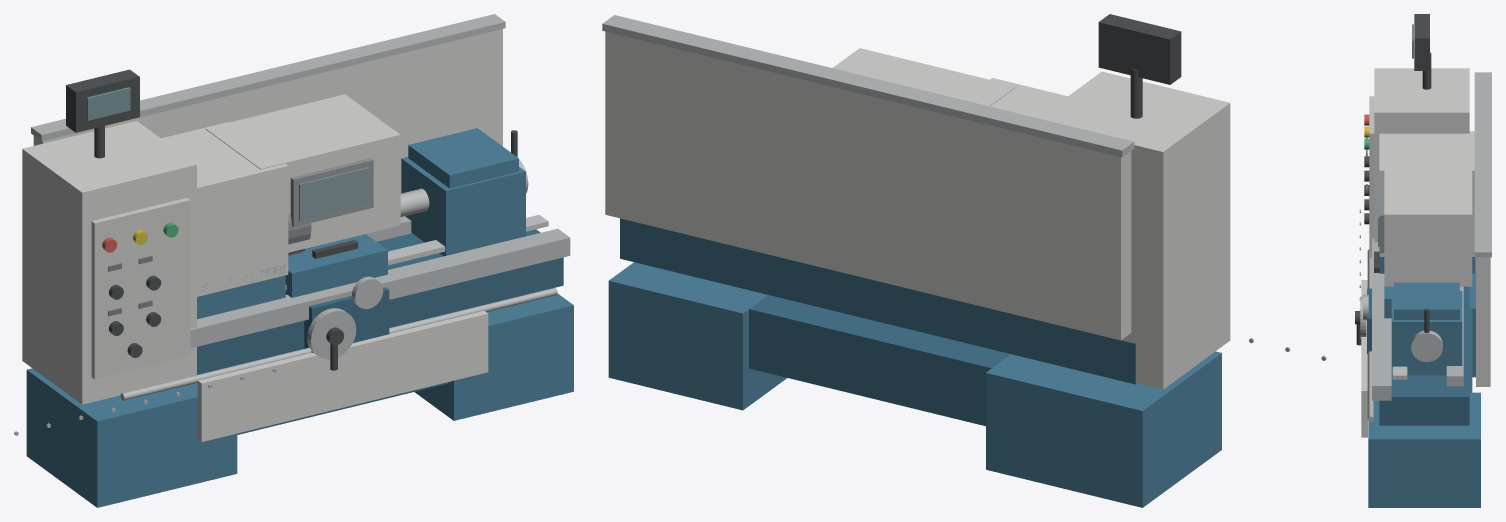
The model's file is romi_t240_modelo_3d_melhorado.glb.
3 renders of one model, left to right at view 1: azimuth 30°, elevation 25°; view 2: azimuth 150°, elevation 25°; view 3: azimuth 270°, elevation 25°, orthographic. The views are drawn at different scales.
Parts seen in each view (by area): view 1: control_cabinet, rear_splash_guard, base_left, front_white_access_door, control_face, safety_hood_body, headstock_white_shell, base_right, front_bed_rail, bed_main, tailstock_body, guard_top_edge (+13 smaller); view 2: rear_splash_guard, control_cabinet, base_left, bed_main, center_lower_panel, base_right, guard_top_edge, digital_readout_case, safety_hood_body, headstock_white_shell; view 3: safety_hood_body, base_right, control_cabinet, bed_main, guard_top_edge, headstock_white_shell, tailstock_body, tailstock_top, front_bed_rail, rear_splash_guard, control_face, digital_readout_case (+12 smaller).
Boxes of the visible parts, x1,y1,x2,y2 form: control_cabinet: (22, 121, 196, 404); rear_splash_guard: (33, 29, 502, 193); base_left: (26, 368, 237, 507); front_white_access_door: (197, 311, 488, 441); control_face: (91, 197, 190, 379); safety_hood_body: (205, 94, 400, 252); headstock_white_shell: (161, 122, 288, 296); base_right: (415, 293, 573, 420); front_bed_rail: (190, 228, 570, 348); bed_main: (197, 229, 563, 374); tailstock_body: (401, 157, 525, 256); guard_top_edge: (31, 14, 505, 140); rear_splash_guard: (605, 31, 1131, 340); control_cabinet: (1038, 71, 1230, 389); base_left: (986, 351, 1221, 507); bed_main: (620, 218, 1136, 384); center_lower_panel: (749, 295, 1010, 426); base_right: (608, 262, 786, 410); guard_top_edge: (602, 15, 1134, 157); digital_readout_case: (1098, 14, 1181, 84); safety_hood_body: (833, 48, 1016, 106); headstock_white_shell: (990, 78, 1067, 117); safety_hood_body: (1384, 160, 1472, 286); base_right: (1368, 392, 1480, 507); control_cabinet: (1374, 68, 1469, 241); bed_main: (1379, 286, 1469, 425); guard_top_edge: (1474, 72, 1491, 257); headstock_white_shell: (1379, 131, 1474, 256); tailstock_body: (1391, 291, 1462, 375); tailstock_top: (1394, 282, 1459, 319); front_bed_rail: (1372, 238, 1391, 400); rear_splash_guard: (1476, 257, 1490, 386); control_face: (1369, 96, 1374, 257); digital_readout_case: (1414, 14, 1429, 70).
Size of the model in its own units: 4.23 by 2.87 by 1.12.
